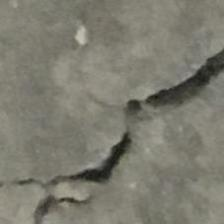Crack: (2, 42, 224, 216)
